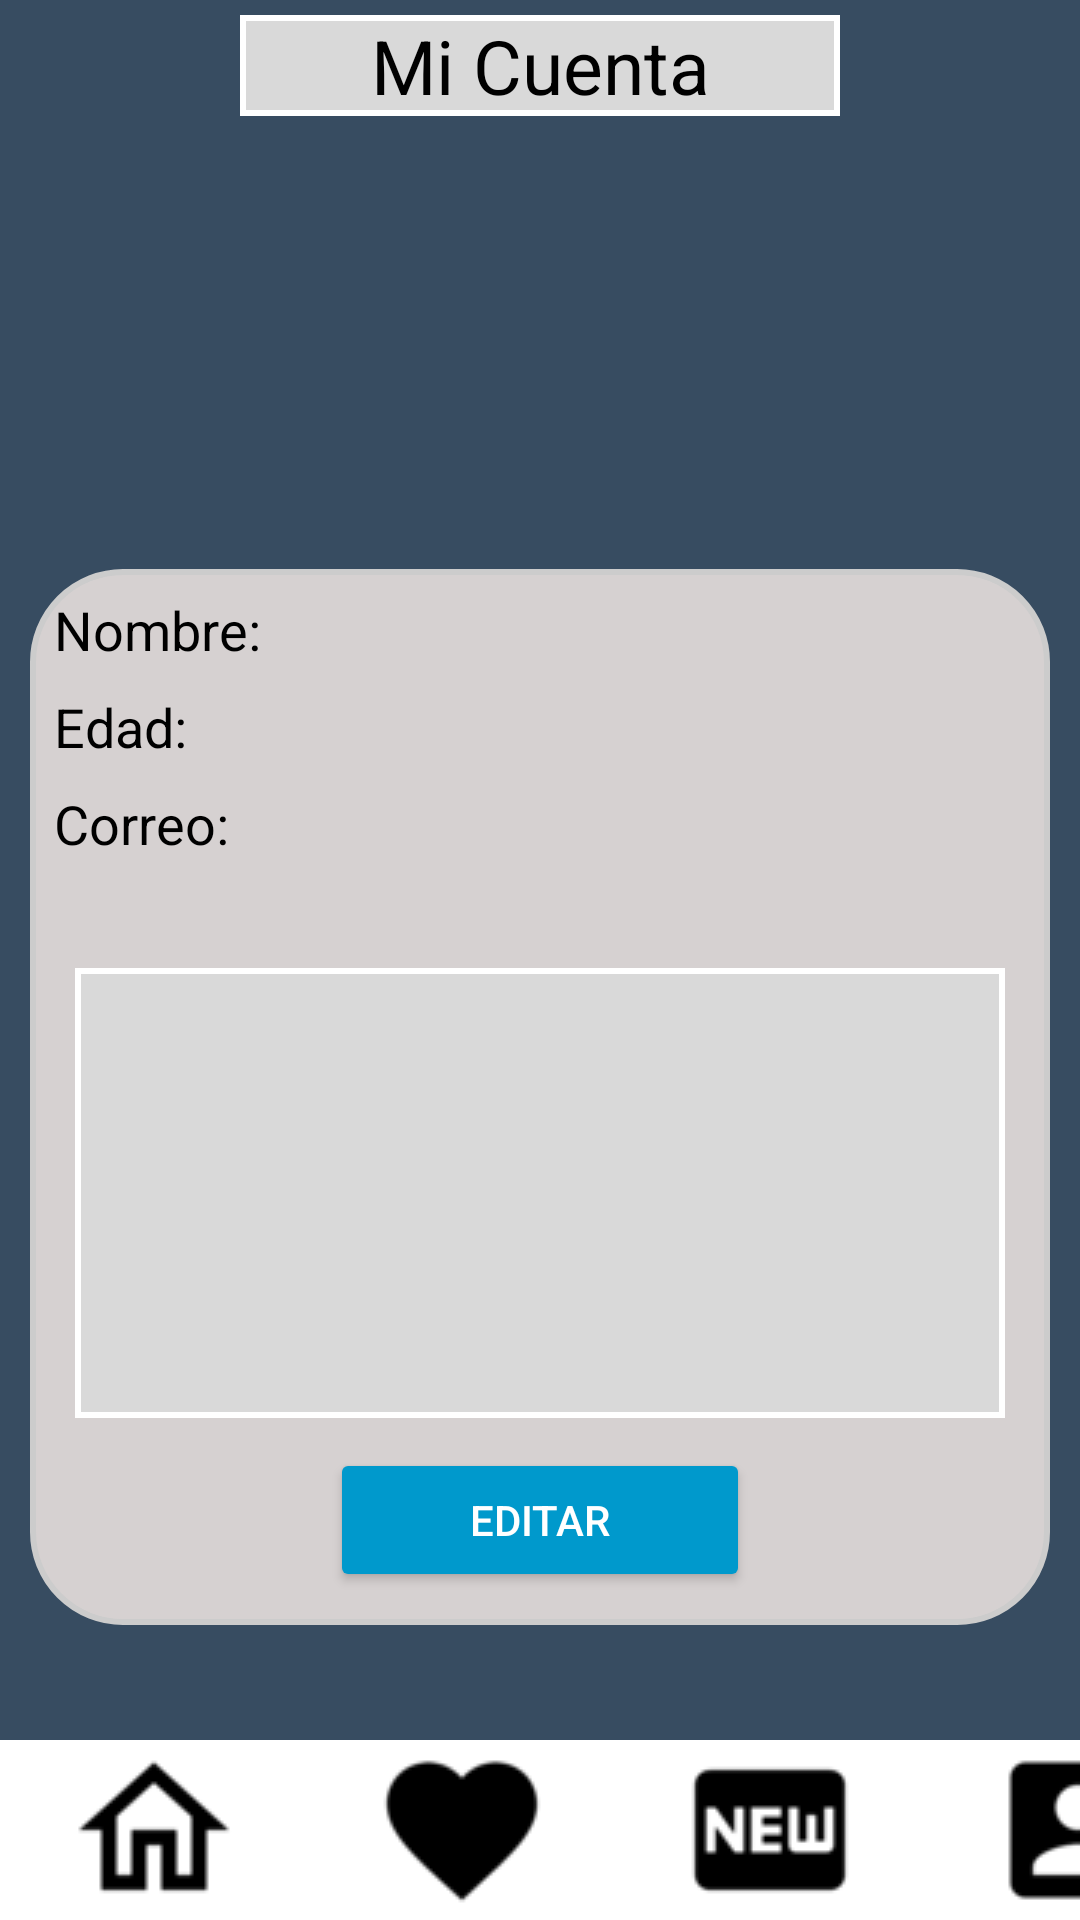

Icon bounding boxes for this 1080px×1920px phone screenshot, format (x1, y1, x2, y2):
heart: (385, 1760, 539, 1901)
home: (78, 1761, 230, 1892)
